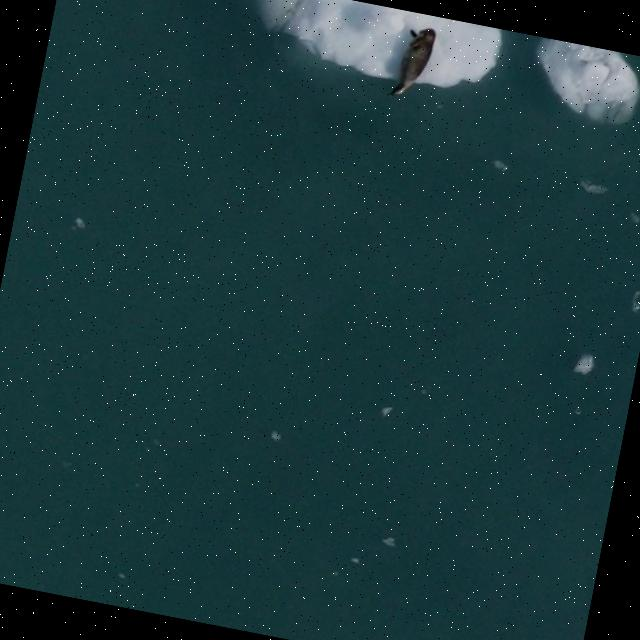seal: (388, 27, 437, 96)
